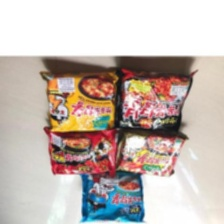snack: (109, 61, 202, 137), (34, 66, 120, 136), (109, 121, 193, 181), (39, 124, 122, 181), (74, 167, 150, 223)
